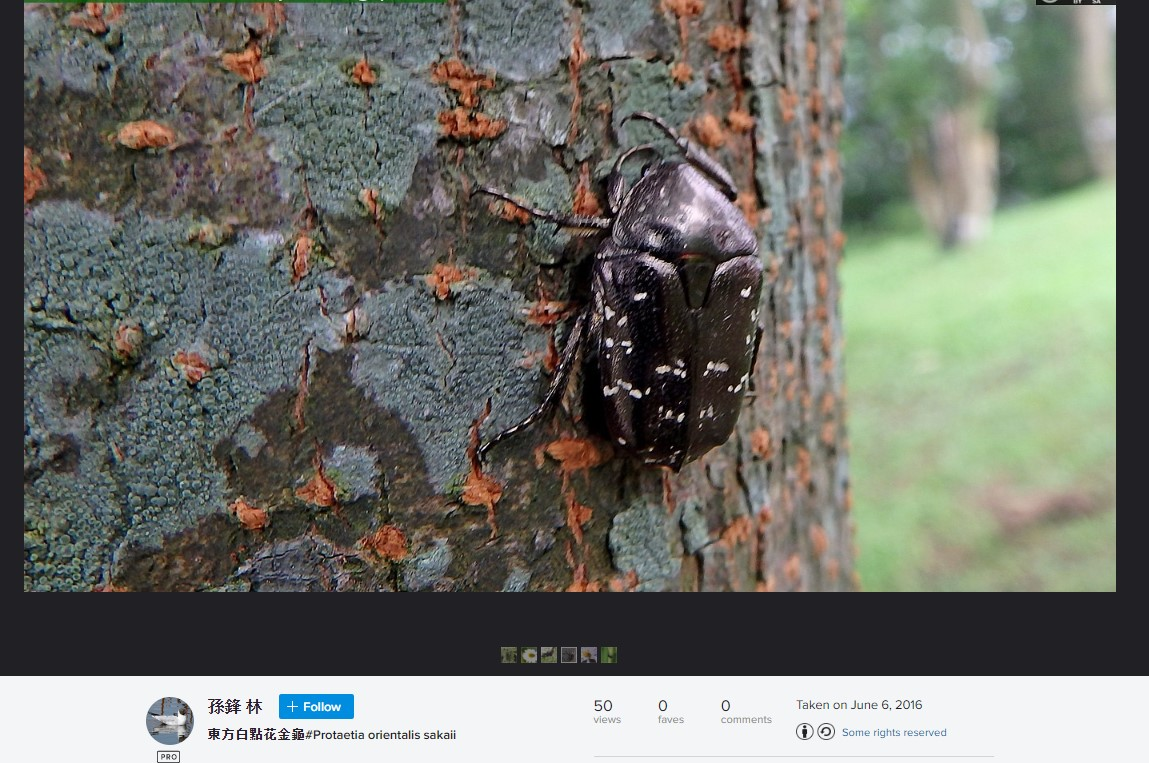Protaetia _orientalis: (468, 100, 776, 485)
